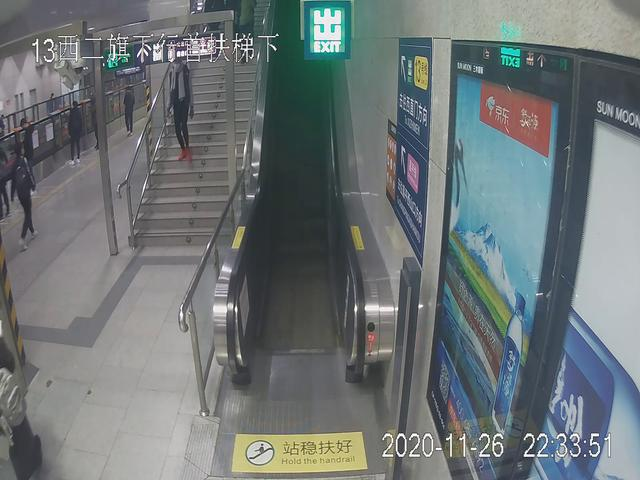person: (9, 138, 41, 244), (165, 54, 196, 159), (69, 100, 85, 166), (123, 86, 138, 137)
